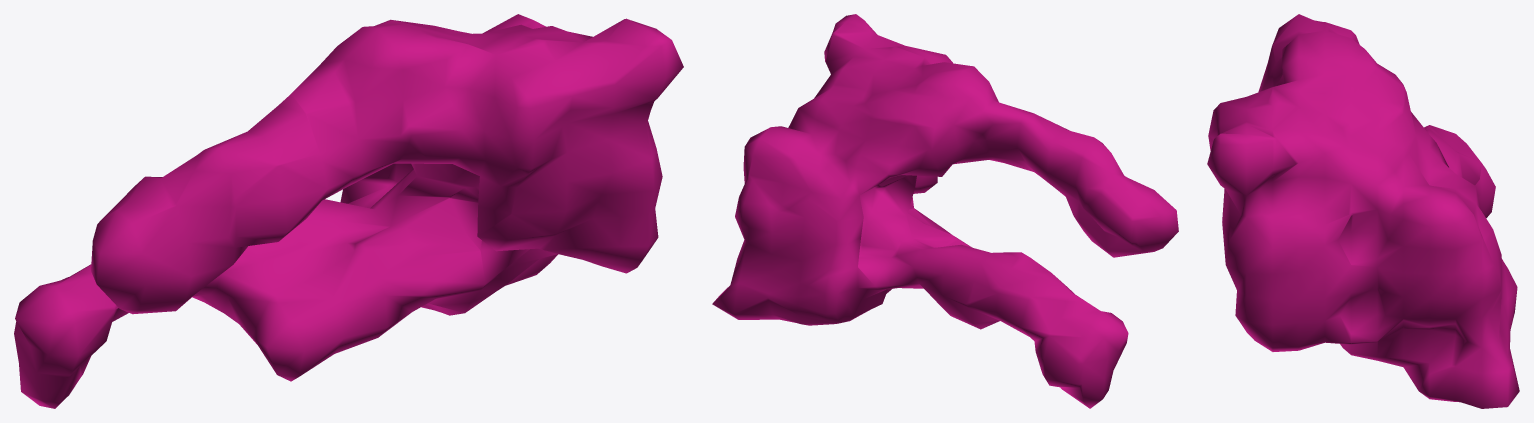
Rendered from Vesicle_3A_4BAlignedDimer2.fbx.
The picture shows the model from 3 angles, left to right: view 1: azimuth 30°, elevation 25°; view 2: azimuth 150°, elevation 25°; view 3: azimuth 270°, elevation 25°; orthographic projection. The views are drawn at different scales.
Visible parts, largest first — view 1: vesicle_MeshVes34Mesh; view 2: vesicle_MeshVes34Mesh; view 3: vesicle_MeshVes34Mesh.
Boxes of the visible parts, box(x1,y1,x2,y2) form: vesicle_MeshVes34Mesh: box(14, 14, 683, 408); vesicle_MeshVes34Mesh: box(712, 14, 1178, 408); vesicle_MeshVes34Mesh: box(1207, 14, 1519, 408).
Bounding box in the file's own units: 128 × 80.75 × 73.3.
